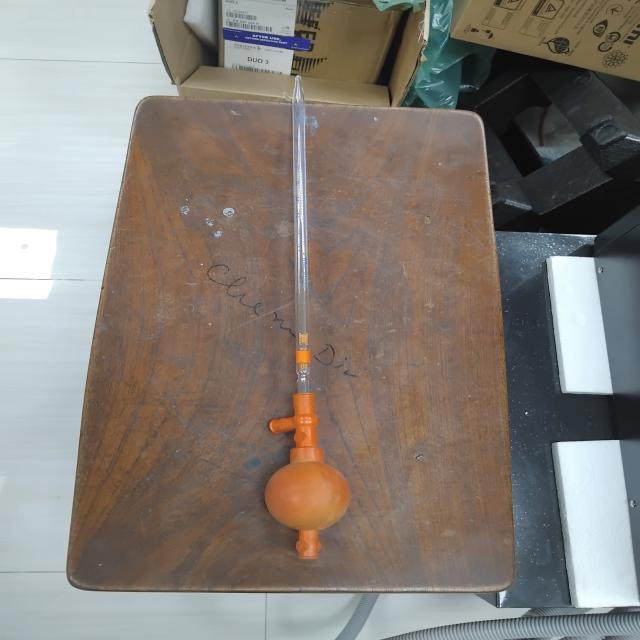Volumetric_Pipet: (211, 46, 390, 566)
